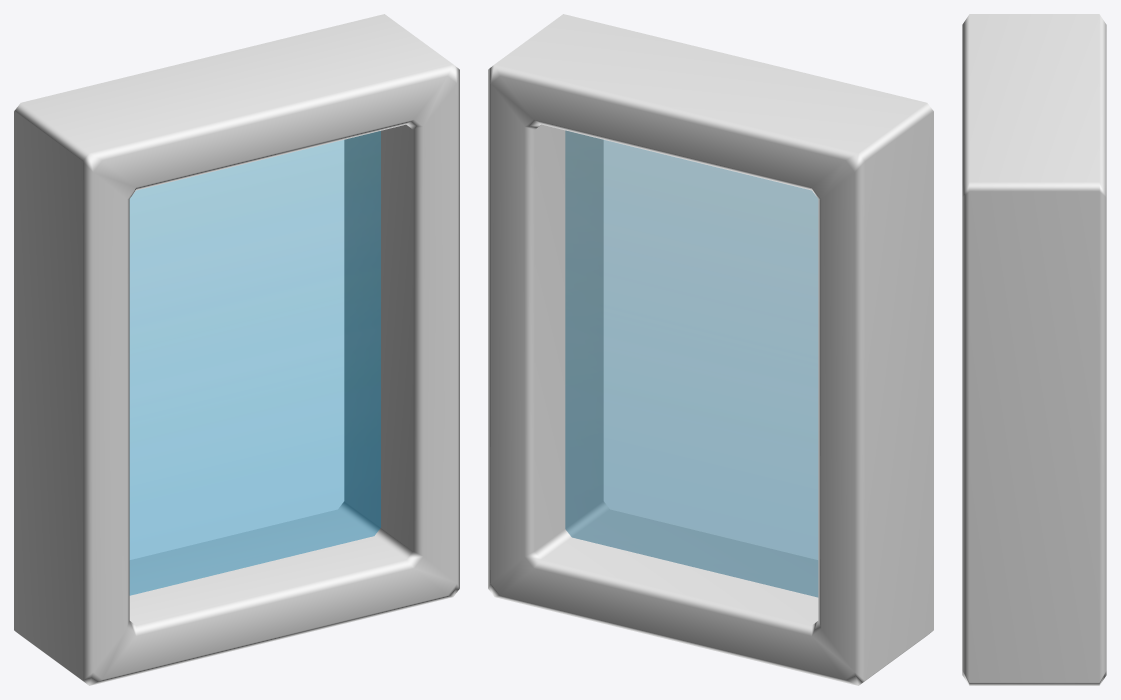
The model's file is Window_White_08.glb.
3 renders of one model, left to right at view 1: azimuth 30°, elevation 25°; view 2: azimuth 150°, elevation 25°; view 3: azimuth 270°, elevation 25°, orthographic. The views are drawn at different scales.
Parts seen in each view (by area): view 1: Window_White_08; view 2: Window_White_08; view 3: Window_White_08.
Boxes of the visible parts, x1,y1,x2,y2 form: Window_White_08: [14, 14, 459, 685]; Window_White_08: [488, 14, 933, 685]; Window_White_08: [962, 14, 1106, 685].
Size of the model in its own units: 1.14 by 1.54 by 0.4.
Materials: 2 (2 with a texture image).
